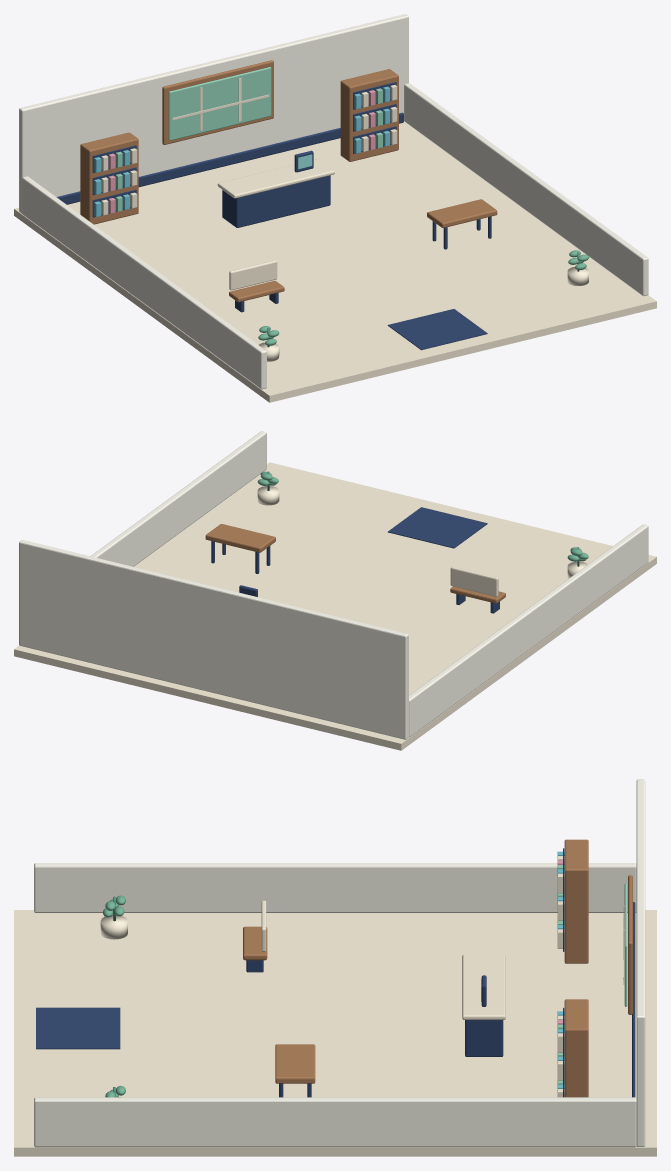
Rendered from ranger_station-interior.glb.
The picture shows the model from 3 angles, top to bottom: view 1: azimuth 30°, elevation 25°; view 2: azimuth 150°, elevation 25°; view 3: azimuth 270°, elevation 25°; orthographic projection. The views are drawn at different scales.
Visible parts, largest first — view 1: ranger_station · furnished cutaway interior; view 2: ranger_station · furnished cutaway interior; view 3: ranger_station · furnished cutaway interior.
Boxes of the visible parts, x1,y1,x2,y2 form: ranger_station · furnished cutaway interior: (14,14,656,402); ranger_station · furnished cutaway interior: (14,431,656,750); ranger_station · furnished cutaway interior: (14,779,656,1156).
Bounding box in the file's own units: 14.02 × 3.84 × 16.
